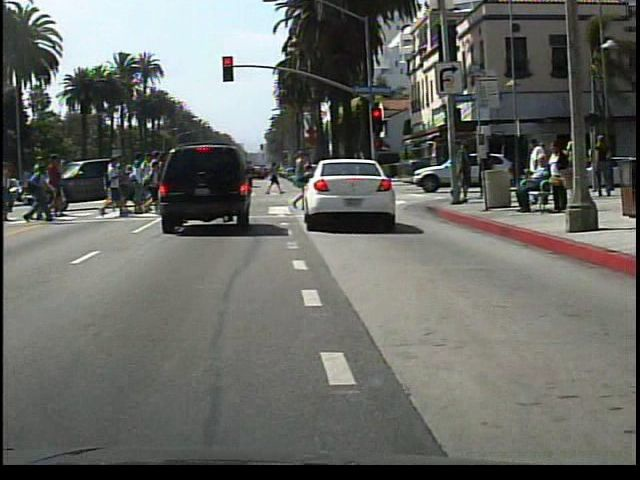person: (517, 154, 558, 215), (545, 138, 575, 215), (286, 148, 317, 214)
